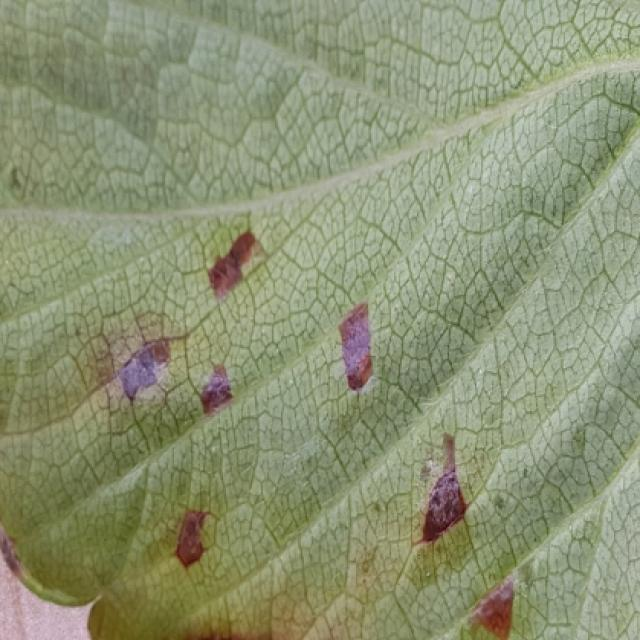Angular Leafspot: (2, 212, 541, 638)
